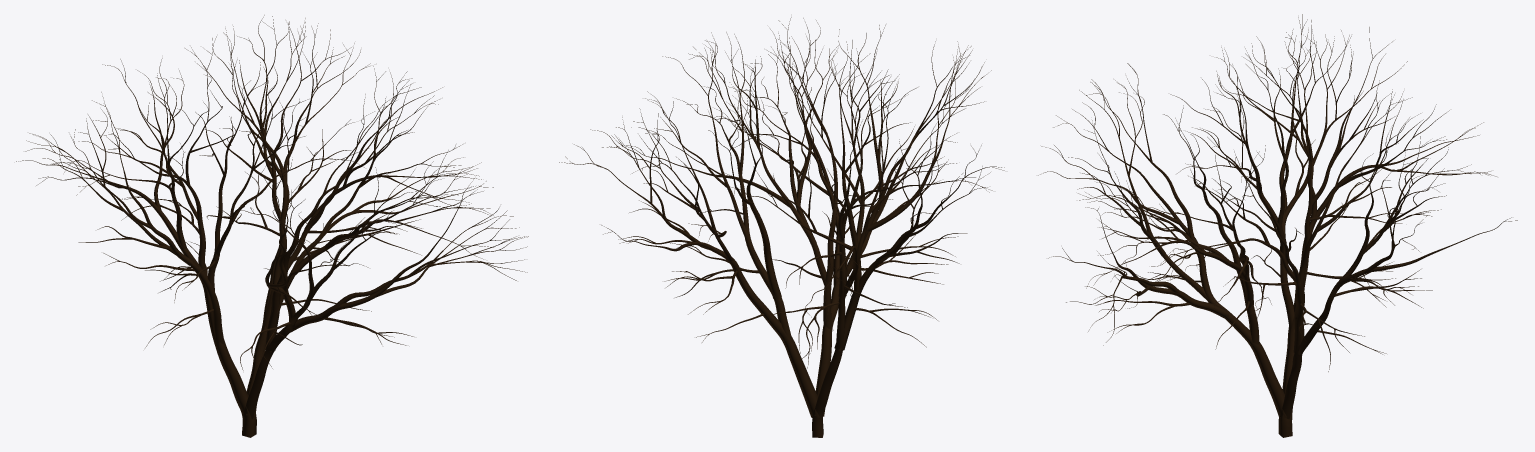
The picture shows the model from 3 angles, left to right: view 1: azimuth 30°, elevation 25°; view 2: azimuth 150°, elevation 25°; view 3: azimuth 270°, elevation 25°; orthographic projection.
Visible parts, largest first — view 1: tree; view 2: tree; view 3: tree.
Boxes of the visible parts, <box> form: tree: <box>16,15,528,437</box>; tree: <box>559,17,1004,437</box>; tree: <box>1038,14,1517,437</box>.
Bounding box in the file's own units: 966 × 872 × 1013.
